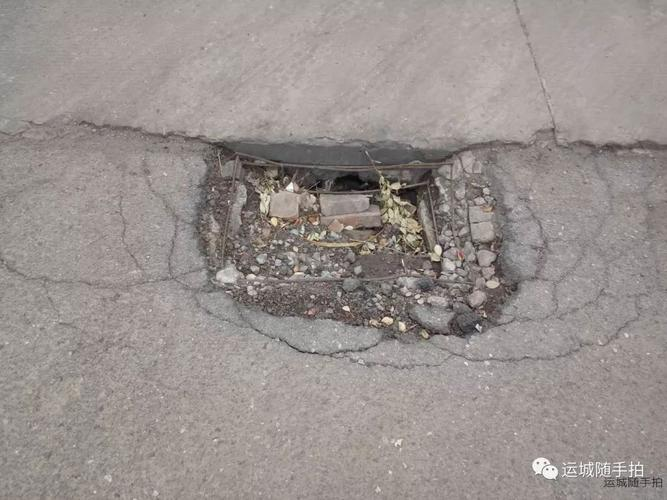broke: (142, 90, 560, 385)
